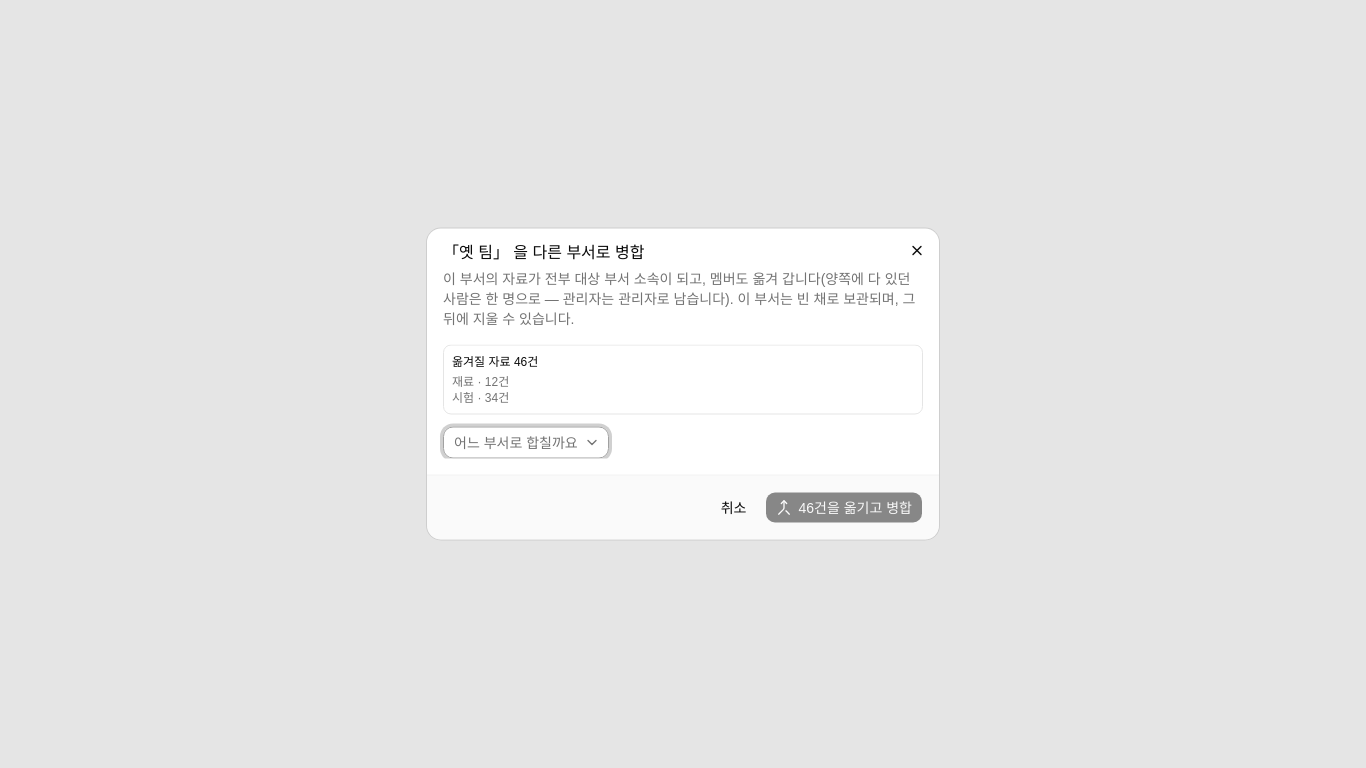
같은 이름이 양쪽에 있으면 › 대상을 고르는 순간 보여 주고 단추를 잠근다
The width and height of the screenshot is (1366, 768).
What coordinates should you click on to do the following:
click the dropdown named "합칠 대상 부서"
I would click on:
 (526, 442)
Its box is [443,426,609,458].
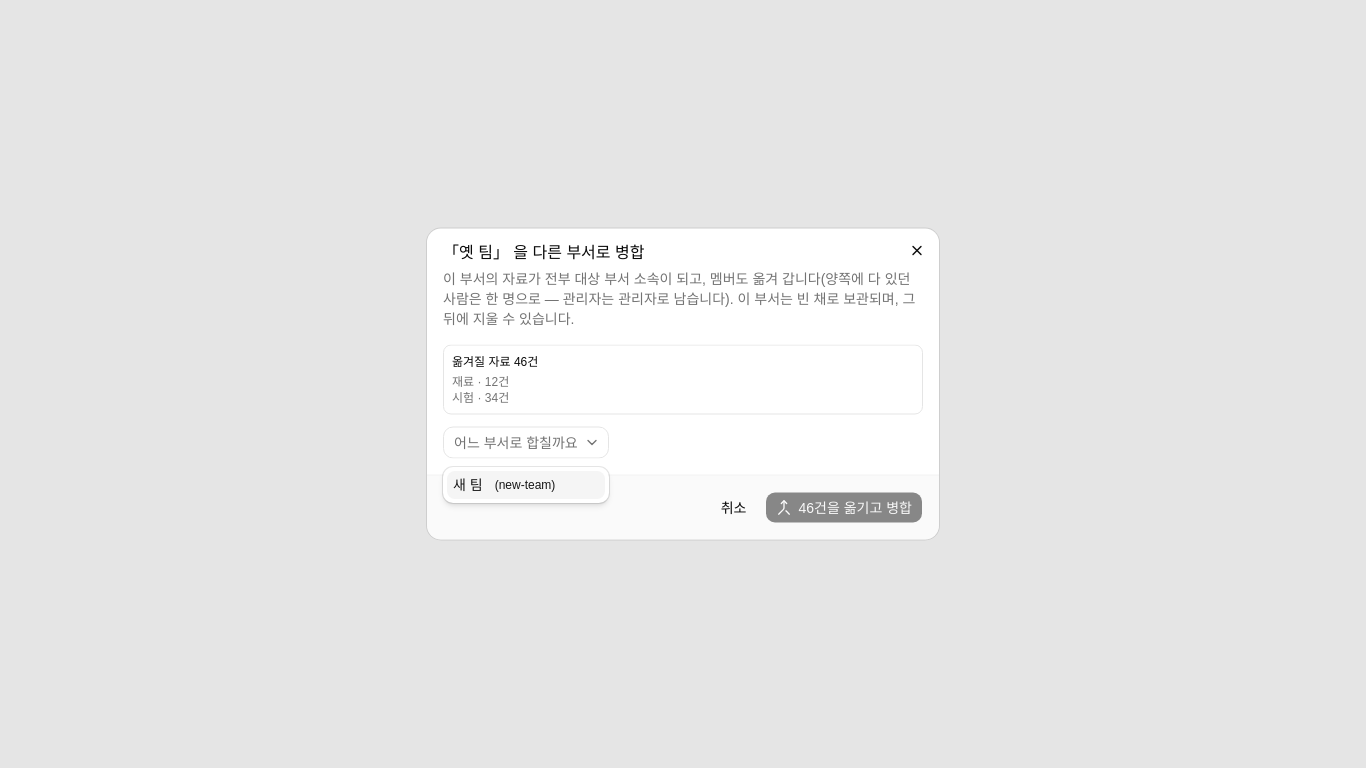
What coordinates should you click on to do the following:
click the option "새 팀 (new-team)"
I would click on:
 (526, 485)
Its box is [447,471,605,499].
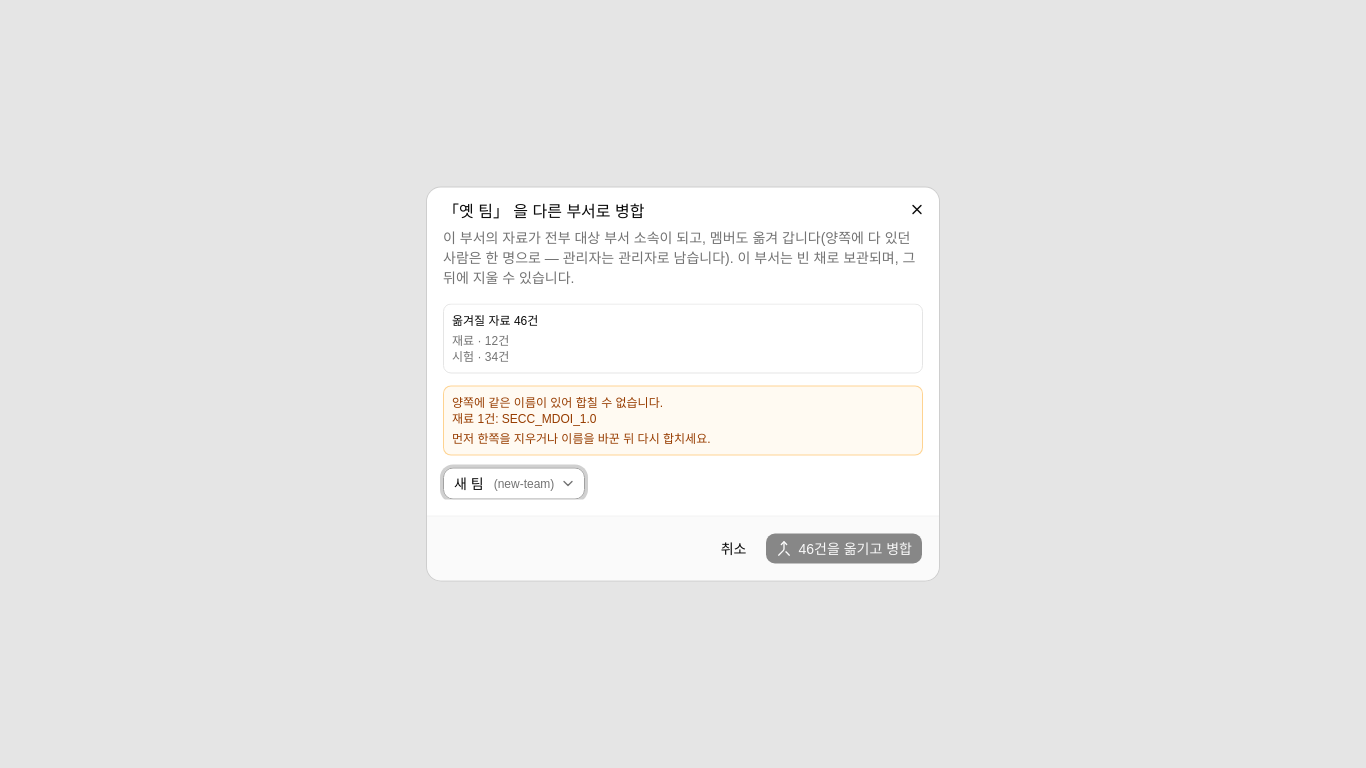
Expected: the button "46건을 옮기고 병합" is disabled, [766,532,923,564]
Now the message shows "재료 1건: SECC_MDOI_1.0", box [443,386,923,456]
